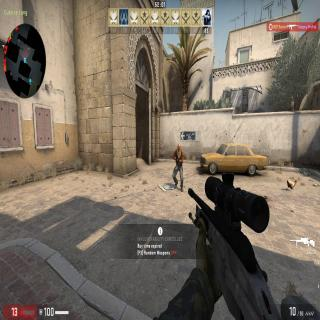T-Body: (172, 143, 185, 191)
T-Head: (177, 144, 181, 151)
